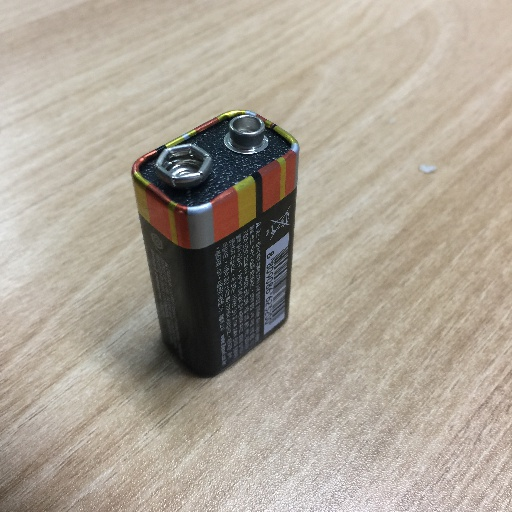Battery_3: (124, 90, 317, 392)
